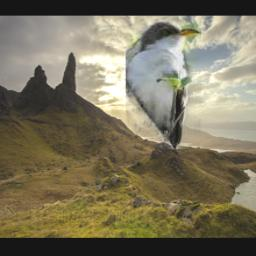Cuckoo: (125, 19, 200, 149)
